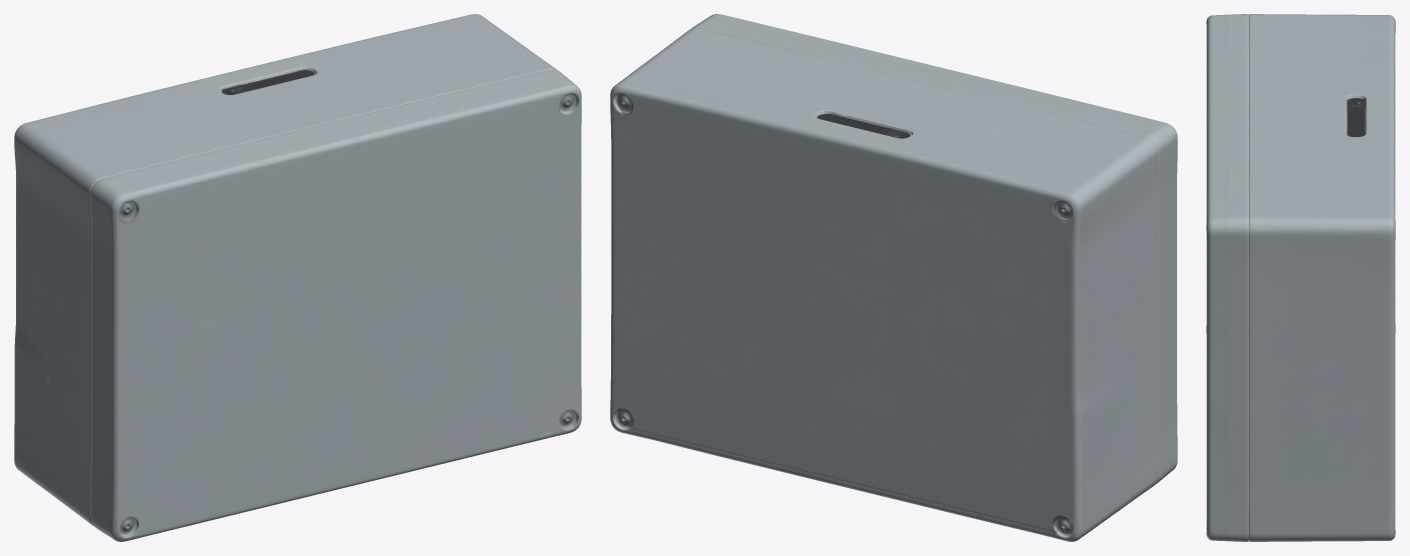
The model's file is aluminum_box_1.obj.
3 views of the same model, side by side, from view 1: azimuth 30°, elevation 25°; view 2: azimuth 150°, elevation 25°; view 3: azimuth 270°, elevation 25° (orthographic). The views are drawn at different scales.
Bounding box in the file's own units: 0.0843 × 0.0598 × 0.0316.
Materials: 1 (1 with a texture image).
